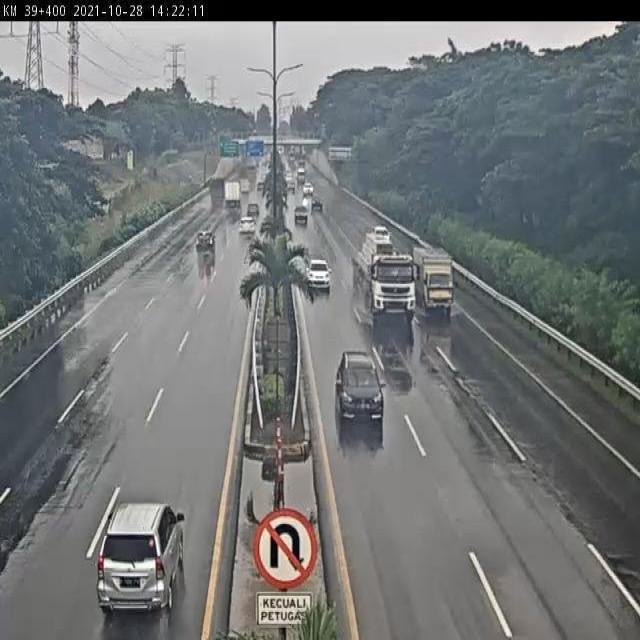car: (95, 503, 189, 624), (334, 350, 384, 426), (302, 256, 330, 295), (194, 229, 216, 259)
truck: (349, 227, 419, 323), (416, 243, 458, 323)
